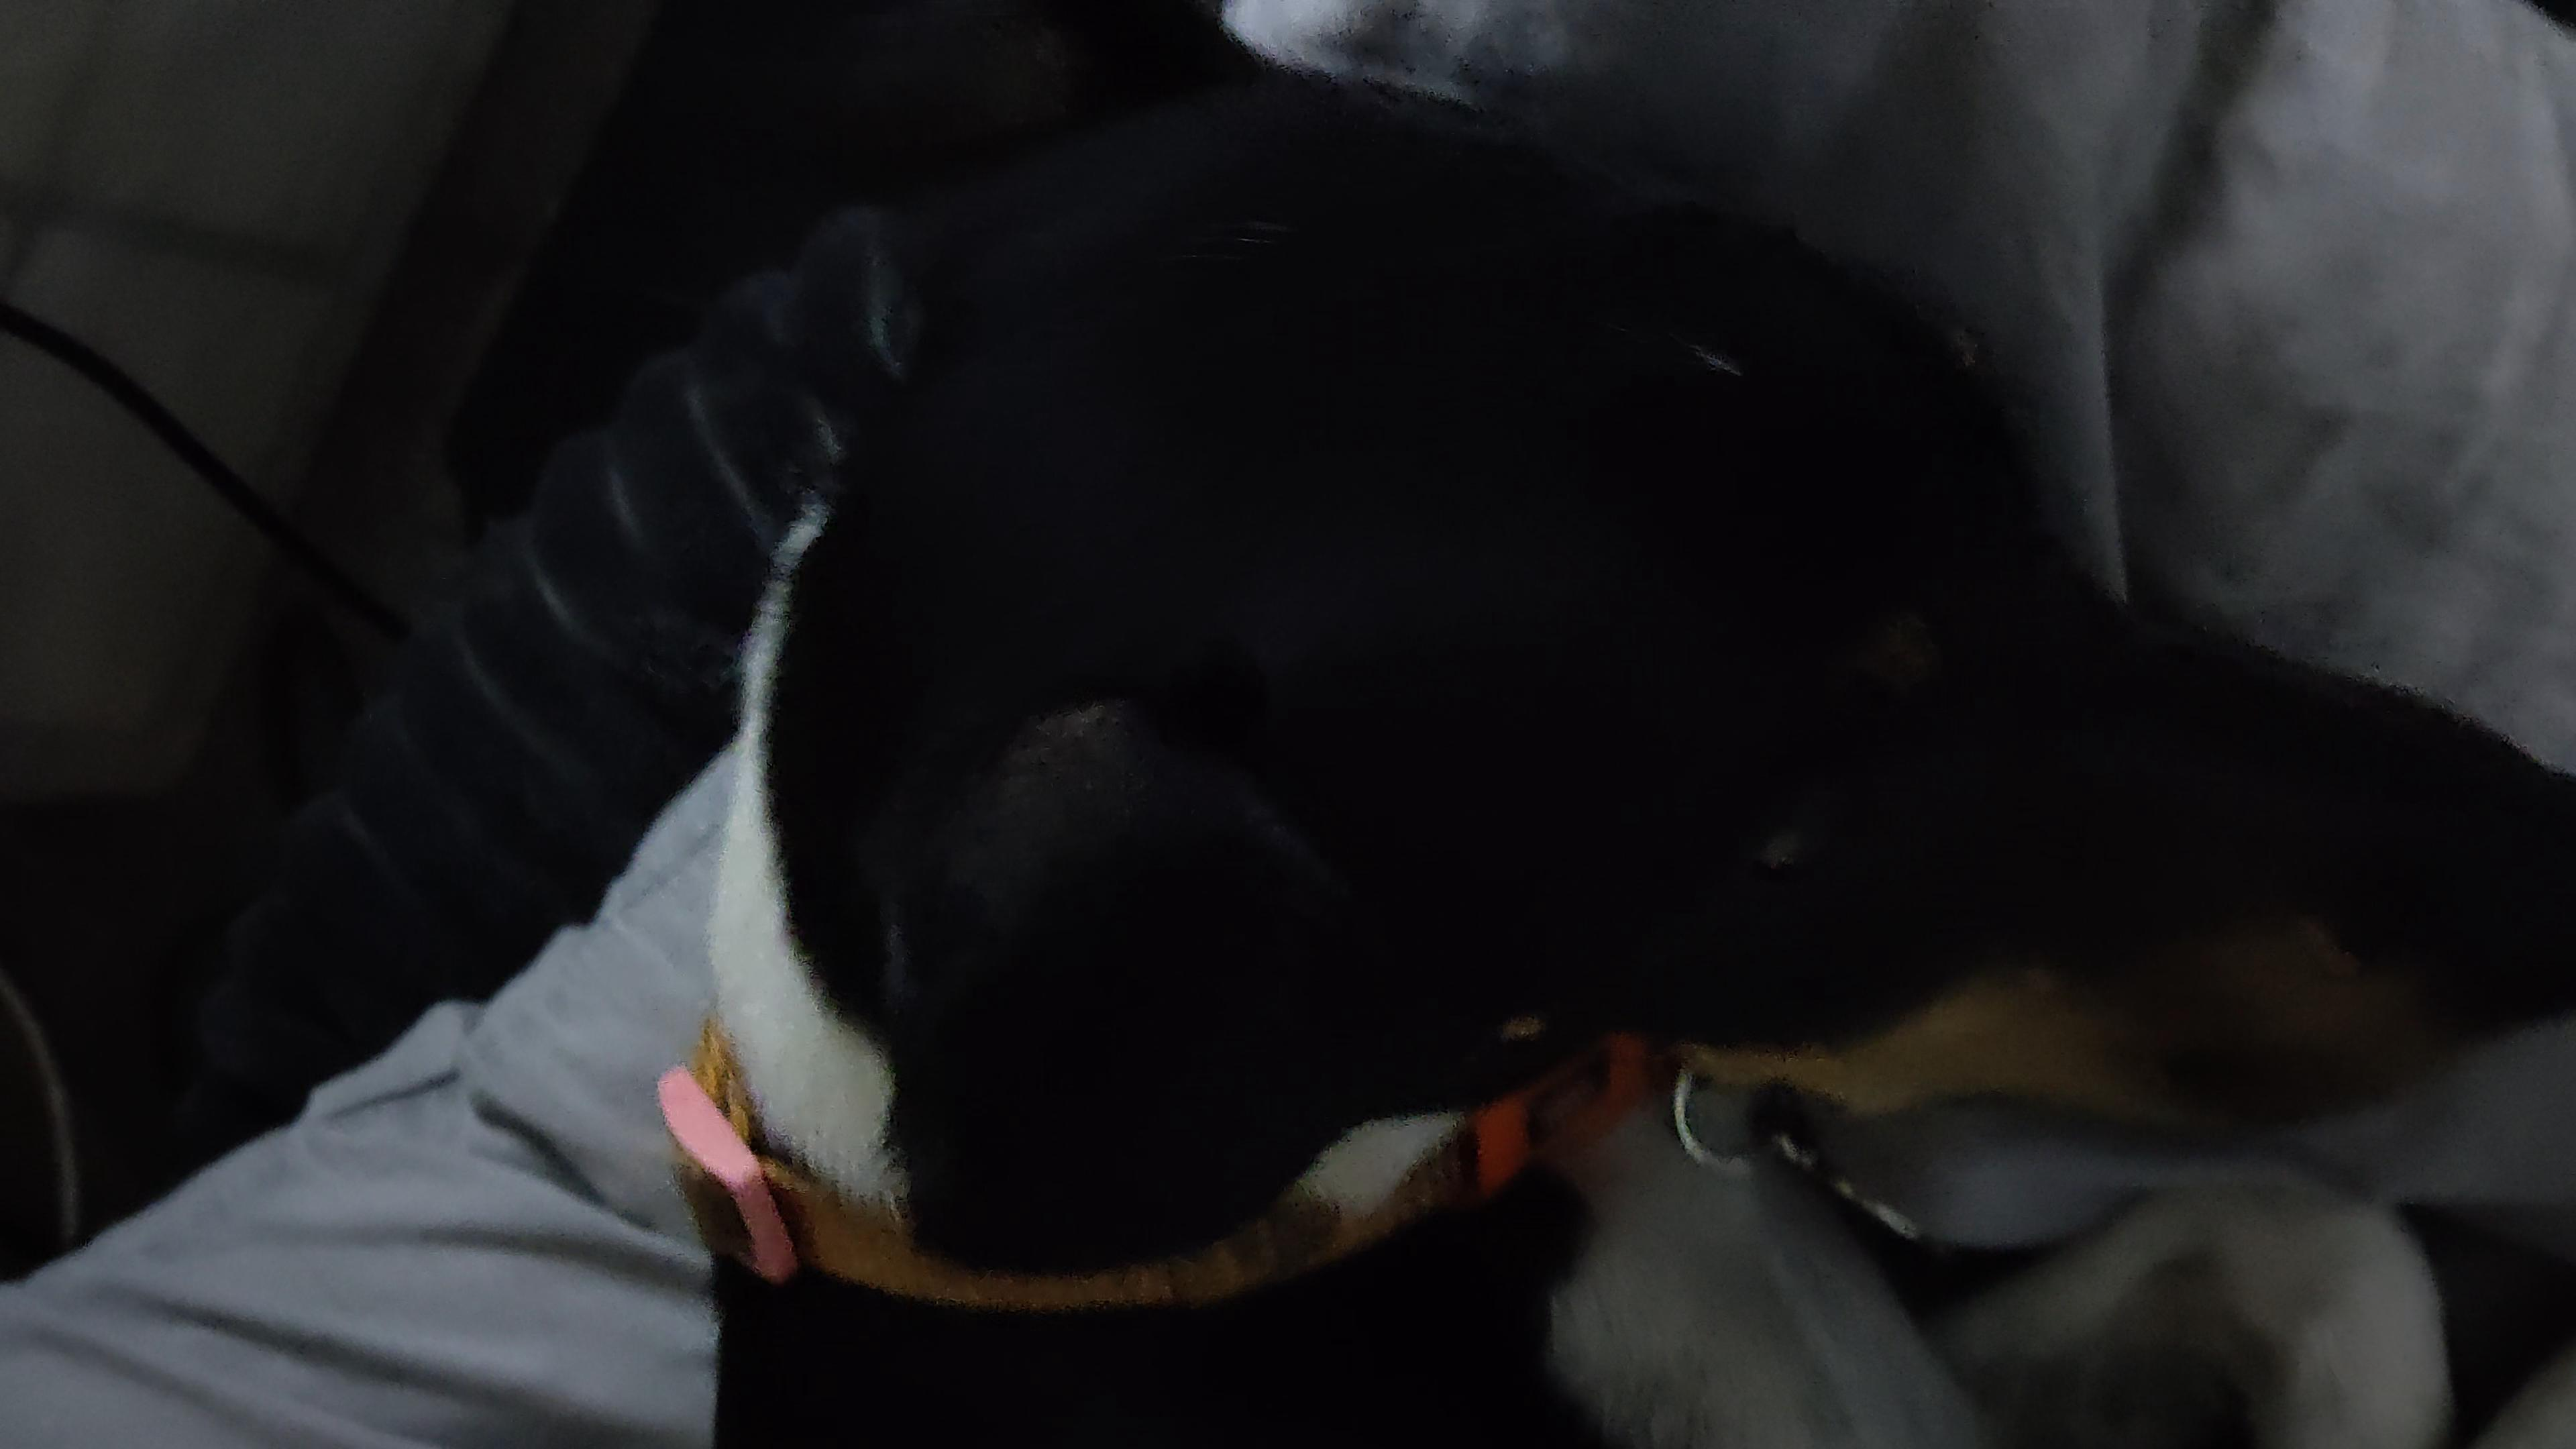Dog: (646, 0, 2576, 1449)
